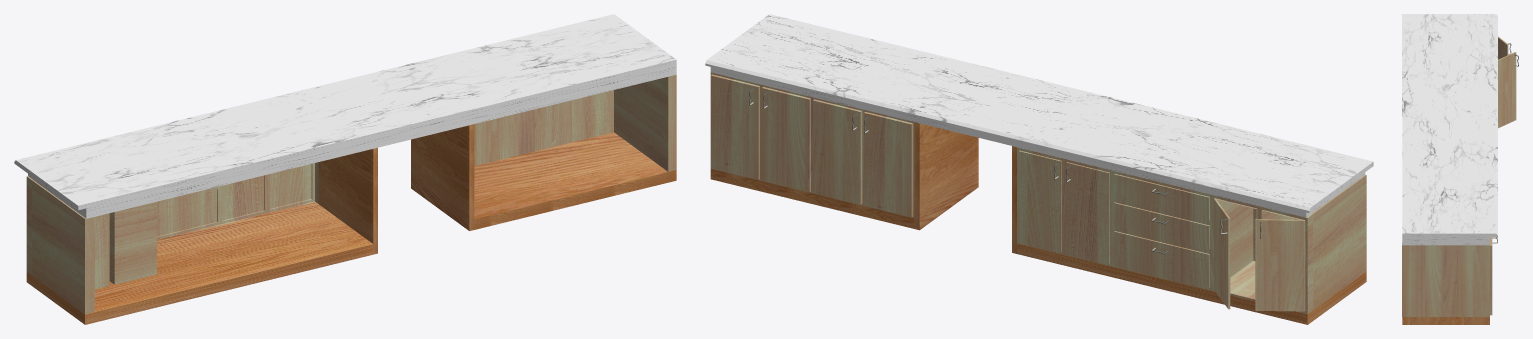
Rendered from Lab1.fbx.
The picture shows the model from 3 angles, left to right: view 1: azimuth 30°, elevation 25°; view 2: azimuth 150°, elevation 25°; view 3: azimuth 270°, elevation 25°; orthographic projection. The views are drawn at different scales.
Parts seen in each view (by area): view 1: Table Cover001, Cabinet004, Table Base003, Table base002, Cabinet003, Top001, Box003, Box002; view 2: Table Cover001, Cabinet004, Cabinet003, Box003, Cabinet2Door003, Top001, Table Base003, Table base002, Cabinet2Door004, Box002; view 3: Table Cover001, Cabinet003, Cabinet2Door004, Top001, Table base002, Cabinet2Door003.
Boxes of the visible parts, x1,y1,x2,y2 form: Table Cover001: (14, 14, 676, 210); Cabinet004: (26, 162, 318, 314); Table Base003: (26, 202, 373, 324); Table base002: (474, 132, 676, 229); Cabinet003: (474, 74, 676, 171); Top001: (28, 64, 676, 218); Box003: (411, 124, 474, 230); Box002: (318, 147, 377, 254); Table Cover001: (705, 14, 1373, 212); Cabinet004: (1017, 147, 1366, 314); Cabinet003: (710, 72, 914, 218); Box003: (914, 122, 978, 230); Cabinet2Door003: (1255, 219, 1304, 311); Top001: (710, 67, 1365, 217); Table Base003: (1017, 243, 1366, 324); Table base002: (710, 169, 914, 228); Cabinet2Door004: (1214, 199, 1230, 309); Box002: (1012, 146, 1016, 253); Table Cover001: (1402, 14, 1497, 237); Cabinet003: (1402, 237, 1492, 316); Cabinet2Door004: (1498, 52, 1516, 128); Top001: (1402, 108, 1489, 245); Table base002: (1402, 317, 1489, 324); Cabinet2Door003: (1498, 36, 1508, 59).
Size of the model in its own units: 178 by 34.32 by 39.8.
Materials: 4 (4 with a texture image).
